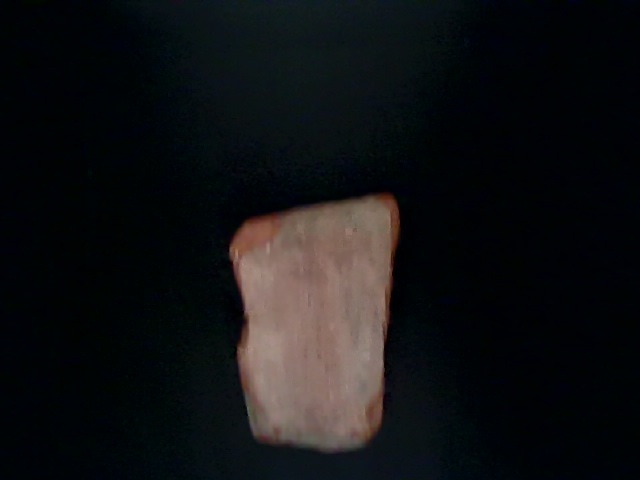KHSLJ: (1, 32, 253, 470)
